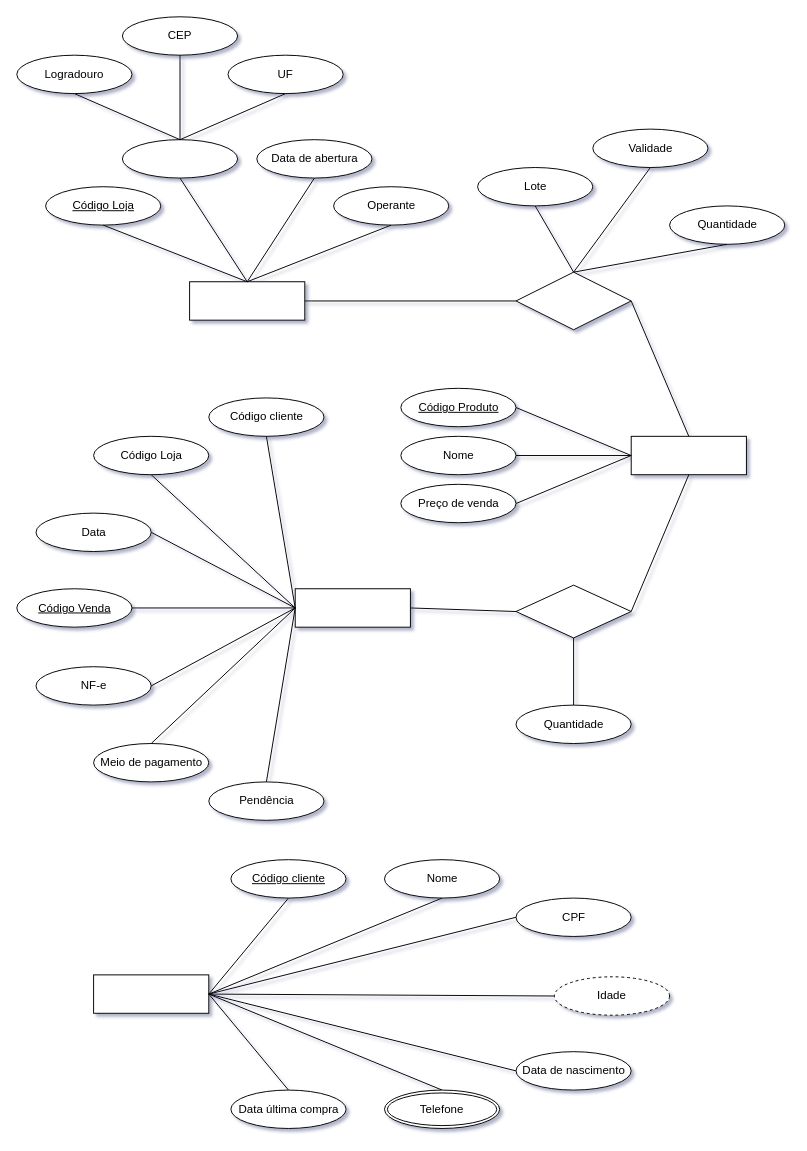
This 807x1151 diagram has some shape labels left out. The shapes that lost their labels are listed below. From the top down, each one's centre as x and y in pixels, then its label:
[179,158]: Local
[247,300]: Loja
[573,300]: Estoque
[688,455]: Produto
[352,607]: Venda
[573,611]: Operação
[151,993]: Cliente
